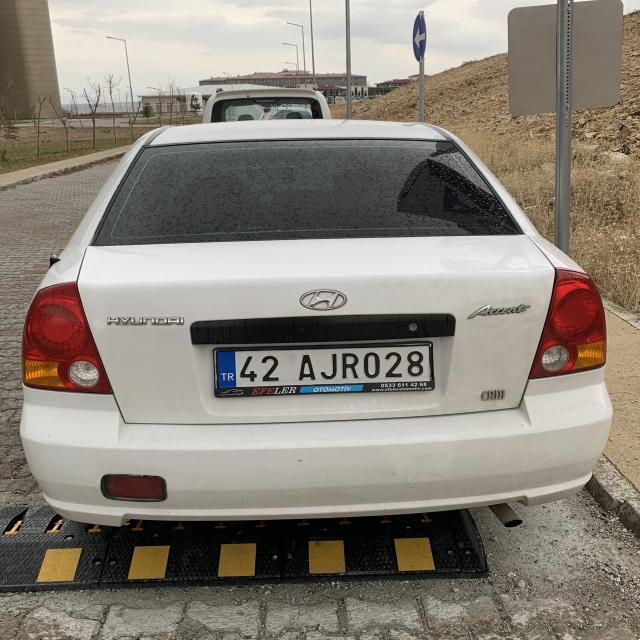license_plate: (214, 348, 432, 387)
